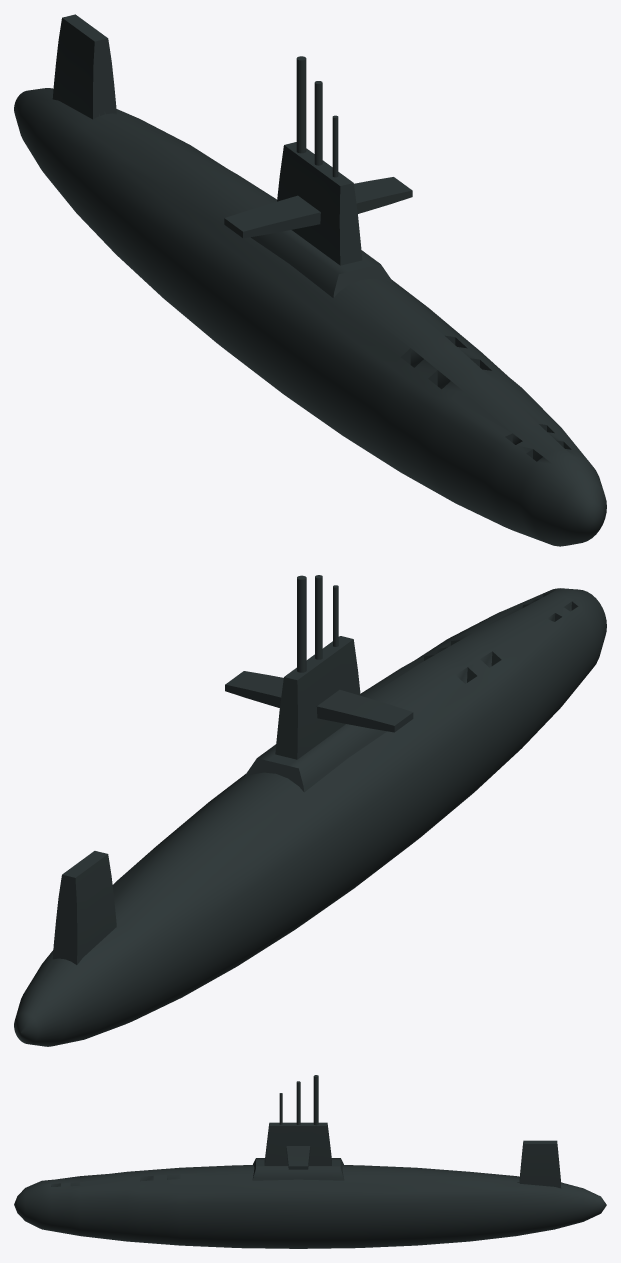
File: cimpletoon.f32c67875649.submarine.glb
3 views of the same model, one above another, from view 1: azimuth 30°, elevation 25°; view 2: azimuth 150°, elevation 25°; view 3: azimuth 270°, elevation 25° (orthographic). The views are drawn at different scales.
Visible parts, largest first — view 1: submarine.glb; view 2: submarine.glb; view 3: submarine.glb.
Part boxes in pixels (x1,y1,x2,y2): submarine.glb: (14,14,606,546); submarine.glb: (14,575,606,1046); submarine.glb: (14,1075,606,1248).
Bounding box in the file's own units: 0.7516 × 1.39 × 4.4.
Materials: 1 (1 with a texture image).
